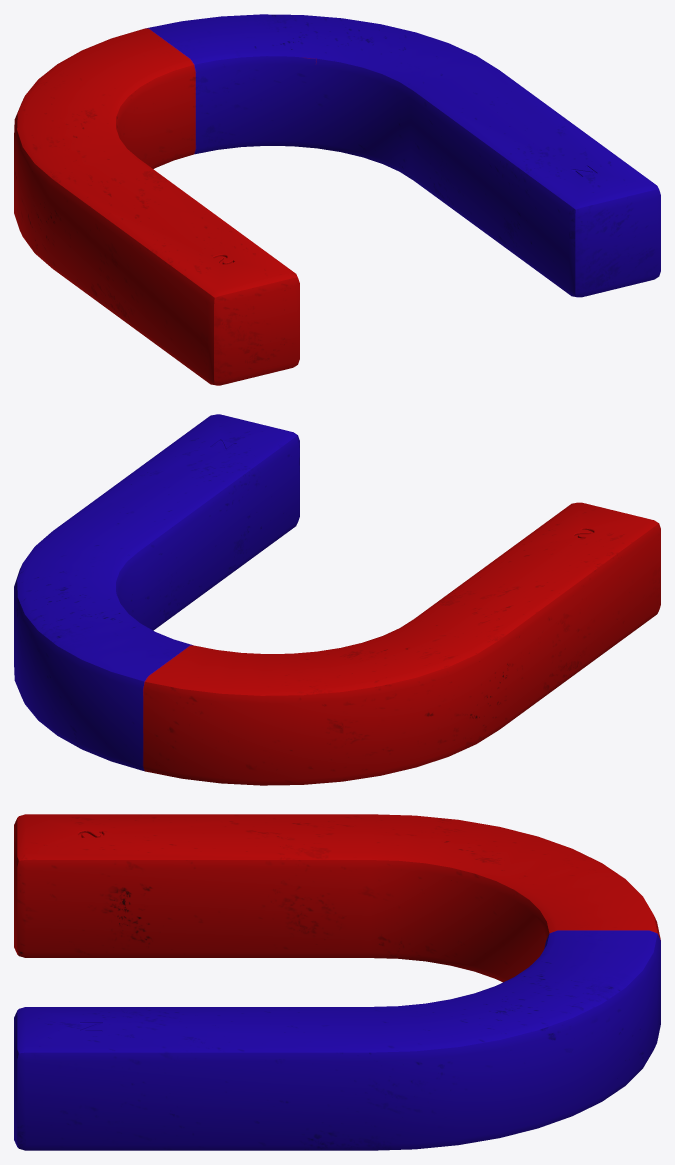
Rendered from Magnet.fbx.
3 views of the same model, one above another, from view 1: azimuth 30°, elevation 25°; view 2: azimuth 150°, elevation 25°; view 3: azimuth 270°, elevation 25° (orthographic). The views are drawn at different scales.
Parts seen in each view (by area): view 1: Plane; view 2: Plane; view 3: Plane.
Boxes of the visible parts, x1,y1,x2,y2 form: Plane: [14, 14, 660, 385]; Plane: [14, 414, 660, 785]; Plane: [14, 814, 660, 1150].
Size of the model in its own units: 993 by 200 by 1126.
